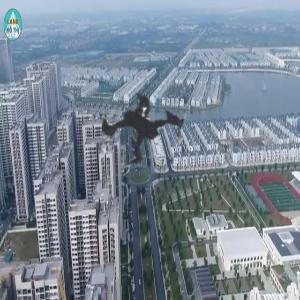drone: (28, 17, 261, 250)
